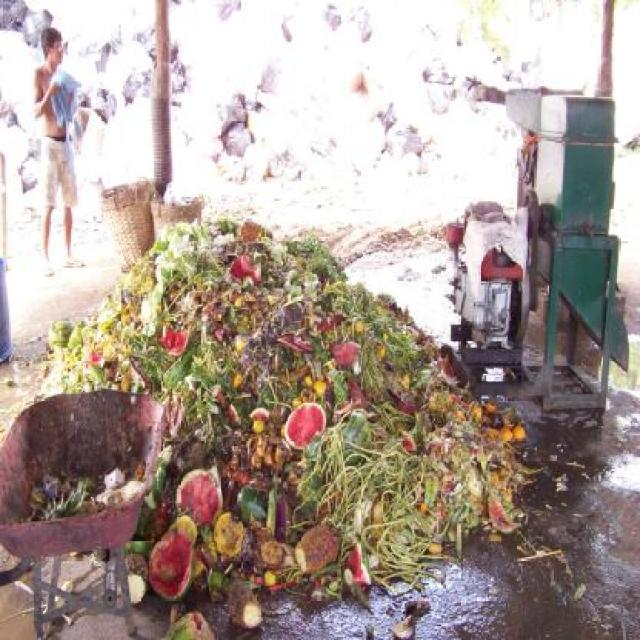garbage: (146, 223, 468, 639), (188, 14, 455, 185), (96, 154, 265, 274), (31, 283, 162, 389), (25, 445, 146, 524), (83, 3, 142, 140), (451, 400, 514, 528)
